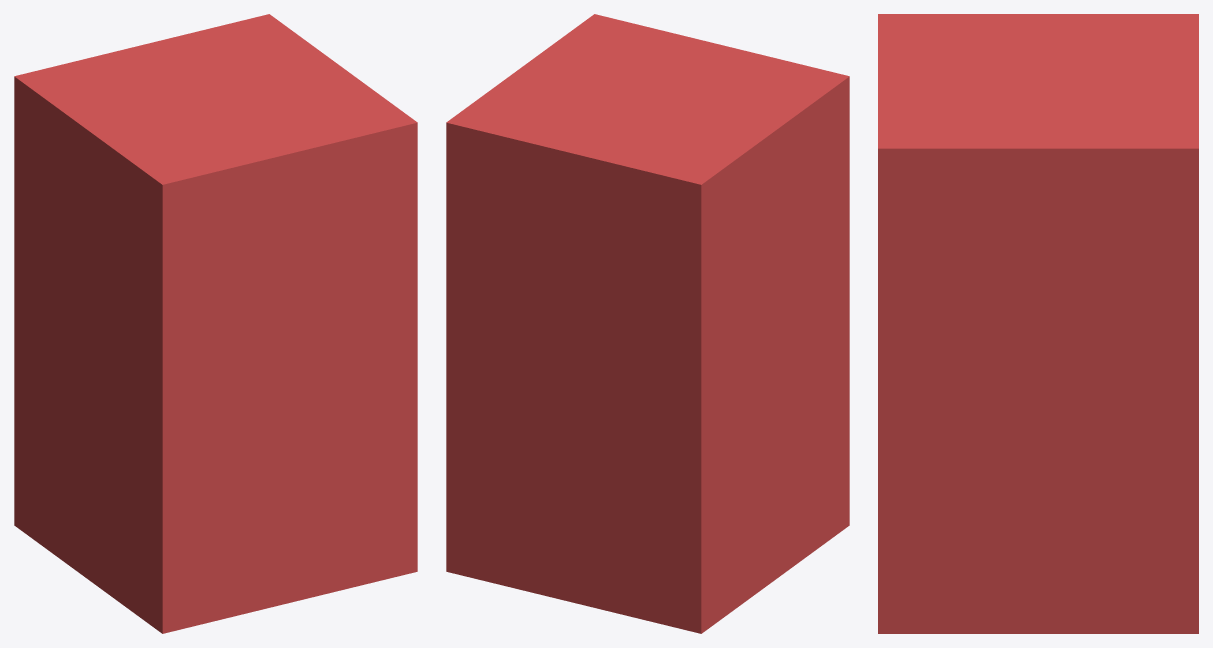
The model's file is trash_canc.DAE.
The picture shows the model from 3 angles, left to right: view 1: azimuth 30°, elevation 25°; view 2: azimuth 150°, elevation 25°; view 3: azimuth 270°, elevation 25°; orthographic projection. The views are drawn at different scales.
Parts seen in each view (by area): view 1: bounds; view 2: bounds; view 3: bounds.
Part boxes in pixels (x1,y1,x2,y2): bounds: [14, 14, 417, 633]; bounds: [446, 14, 849, 633]; bounds: [878, 14, 1198, 633].
Size of the model in its own units: 14.1 by 14.2 by 23.71.
